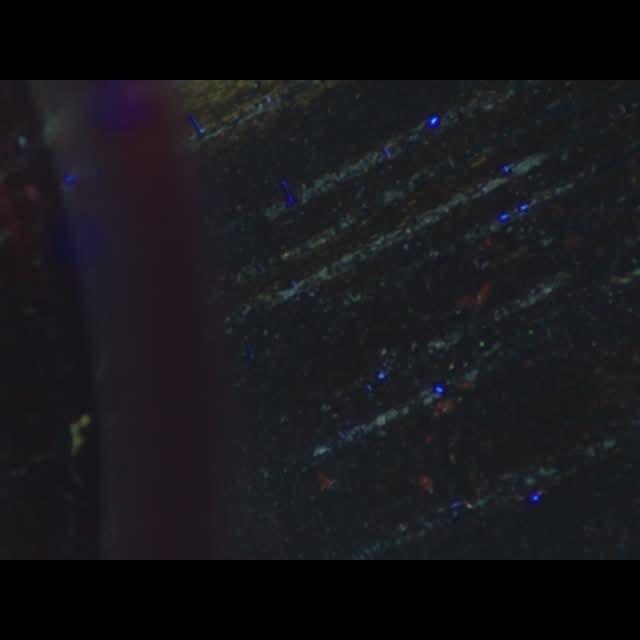Fibre: (68, 414, 90, 458)
